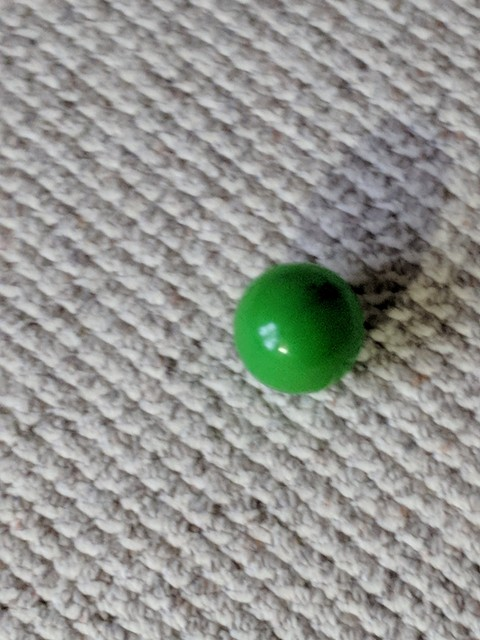Ball: (235, 260, 365, 394)
